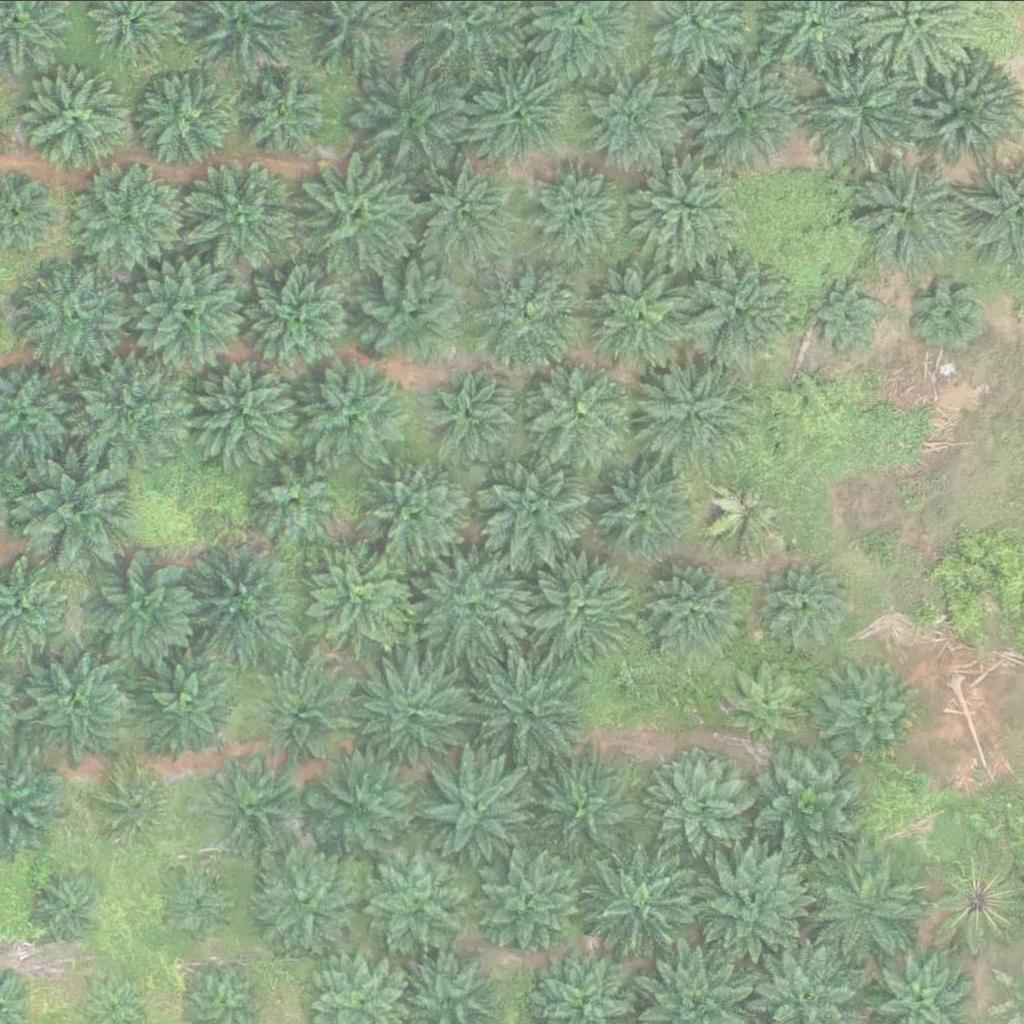Kelapa_Sawit: (416, 745, 542, 870), (11, 640, 137, 765), (81, 545, 207, 670), (14, 448, 140, 573), (73, 345, 199, 470), (238, 251, 364, 376), (180, 150, 306, 275), (295, 151, 421, 276), (351, 55, 477, 180), (799, 45, 925, 170), (638, 747, 764, 872), (740, 742, 866, 867), (578, 843, 704, 968), (687, 846, 813, 971), (804, 849, 930, 974), (191, 351, 305, 464), (681, 52, 795, 165), (476, 259, 590, 372), (307, 749, 420, 862), (361, 653, 474, 766), (296, 353, 409, 466), (414, 360, 527, 473), (362, 259, 475, 372), (73, 159, 186, 272), (908, 53, 1021, 166), (636, 149, 749, 262), (851, 156, 964, 269), (585, 259, 698, 372), (686, 255, 799, 368), (521, 551, 634, 664), (634, 555, 747, 668), (473, 657, 586, 770), (129, 257, 243, 369), (408, 152, 522, 264), (247, 844, 360, 956), (362, 842, 475, 954), (133, 644, 246, 756), (249, 657, 362, 769), (186, 545, 299, 657), (305, 540, 418, 652), (415, 547, 528, 659), (360, 459, 473, 571), (14, 262, 127, 374), (525, 355, 638, 467), (639, 356, 752, 468), (476, 455, 589, 567), (526, 753, 639, 865), (478, 844, 591, 956), (23, 67, 124, 167), (138, 68, 239, 168), (754, 557, 855, 657), (714, 652, 815, 752), (234, 61, 334, 161), (465, 62, 565, 162), (586, 71, 686, 171), (532, 164, 632, 264), (813, 661, 913, 761), (703, 471, 792, 559), (252, 454, 340, 542), (604, 464, 692, 552), (205, 760, 293, 847), (98, 766, 173, 841), (34, 869, 109, 944), (164, 863, 239, 938), (812, 277, 887, 352), (911, 276, 986, 351)
